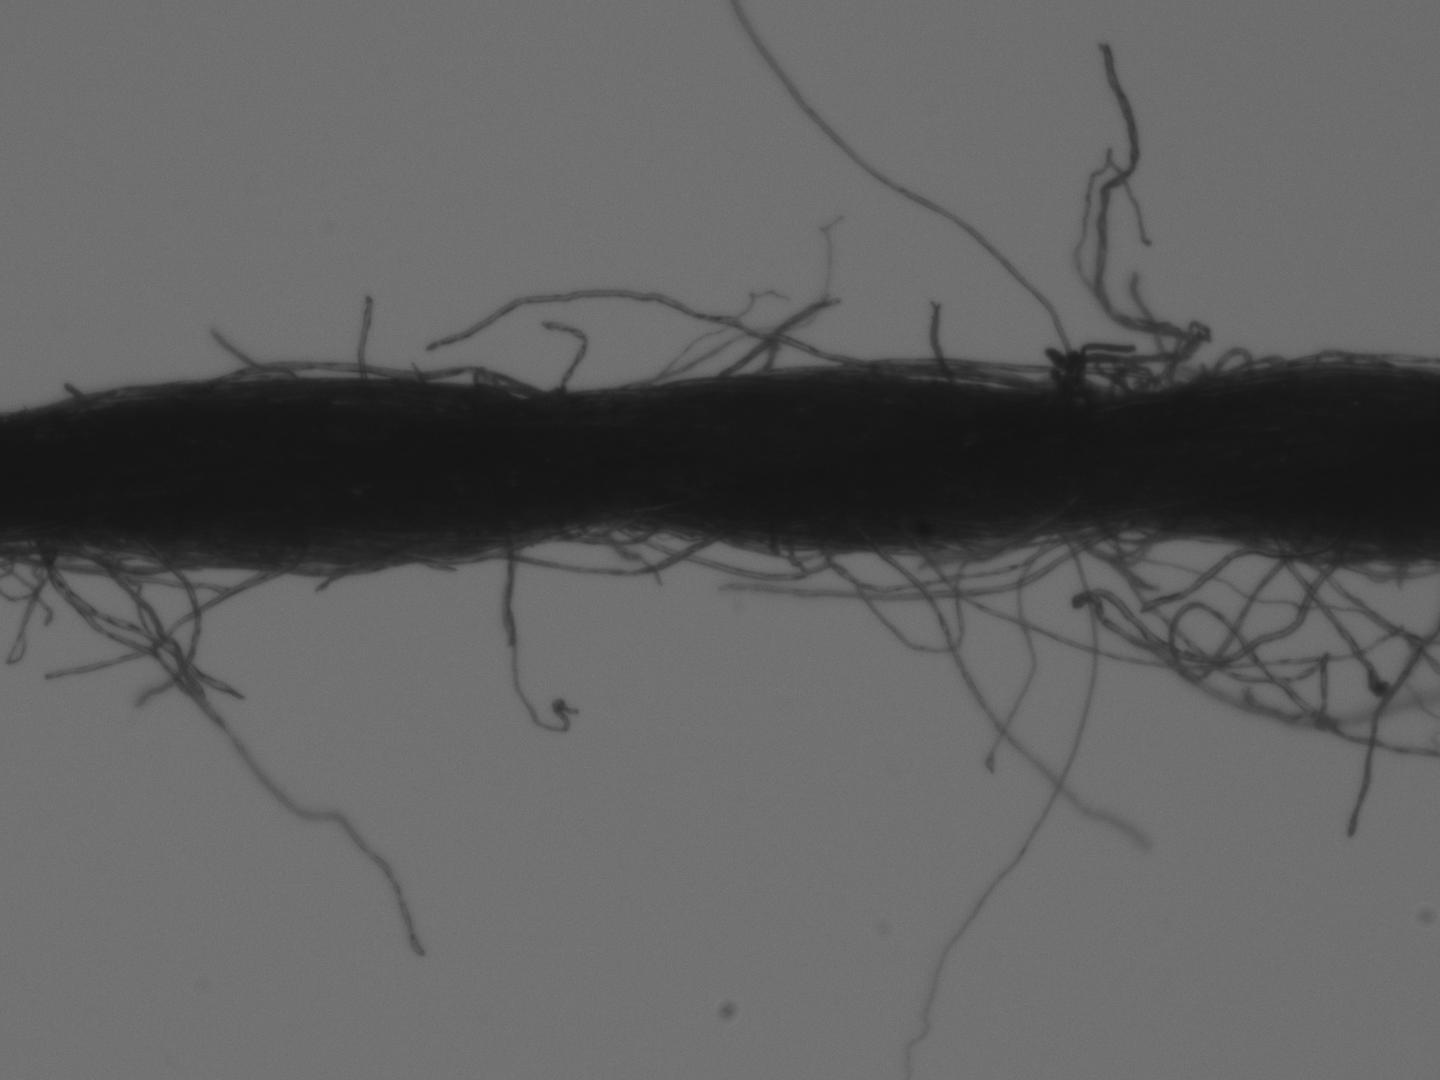loop_fiber: (431, 511, 727, 576), (825, 541, 966, 650), (613, 522, 825, 584), (10, 537, 203, 581), (1290, 538, 1431, 584), (210, 355, 406, 386), (547, 506, 666, 552), (1067, 521, 1162, 564), (412, 364, 545, 394), (1192, 343, 1257, 395), (1094, 348, 1160, 398), (274, 554, 388, 575), (764, 537, 827, 575)
protruding_fiber: (544, 313, 591, 393), (930, 295, 946, 385)
